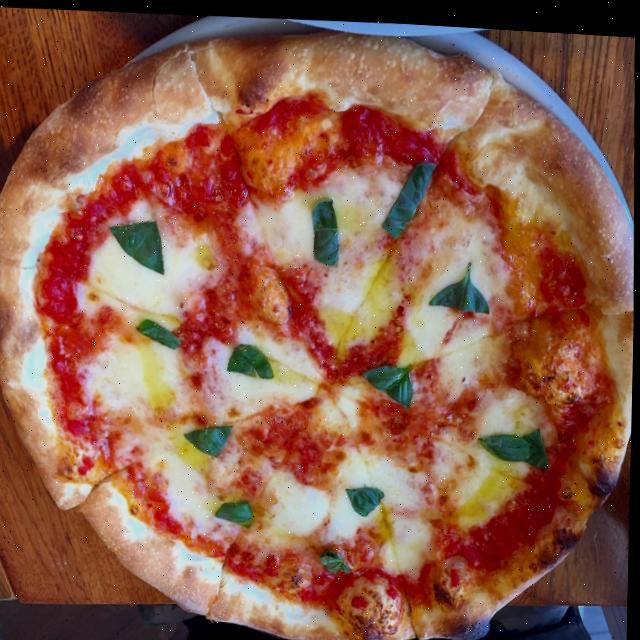basil: (379, 152, 438, 240), (104, 212, 169, 276), (424, 252, 492, 313), (359, 350, 414, 400), (307, 187, 341, 263), (223, 335, 275, 380), (181, 416, 235, 456), (131, 312, 182, 350), (343, 473, 388, 514), (344, 473, 386, 516), (477, 425, 533, 454), (521, 416, 551, 464), (212, 494, 254, 525), (317, 539, 351, 570)
pizza: (0, 2, 640, 640)
